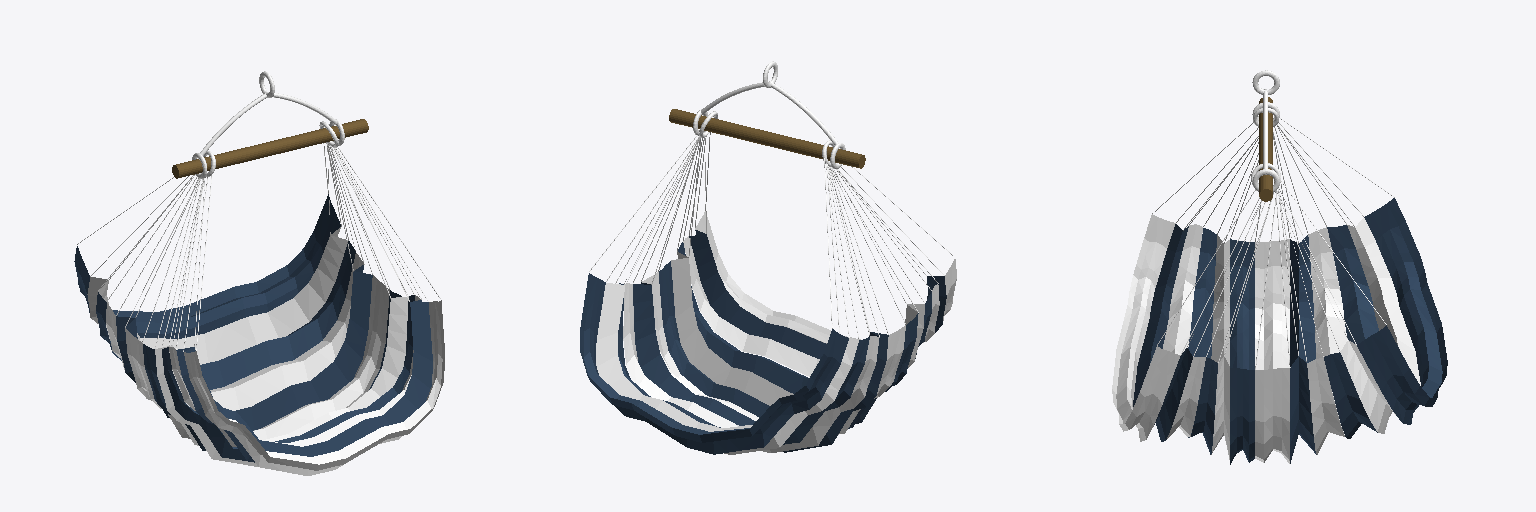
The model's file is REDE.obj.
3 views of the same model, side by side, from view 1: azimuth 30°, elevation 25°; view 2: azimuth 150°, elevation 25°; view 3: azimuth 270°, elevation 25° (orthographic).
Visible parts, largest first — view 1: Mesh26 Group10 Group3 Model, Mesh28 Group12 Group3 Model, Mesh27 Group11 Group3 Model, Mesh25 Group9 Group3 Model, Mesh2 Group2 Model, Mesh15 Group6 Group3 Model, Mesh17 Group7 Group3 Model, Mesh5 Group4 Group3 Model; view 2: Mesh26 Group10 Group3 Model, Mesh28 Group12 Group3 Model, Mesh25 Group9 Group3 Model, Mesh27 Group11 Group3 Model, Mesh2 Group2 Model, Mesh17 Group7 Group3 Model, Mesh15 Group6 Group3 Model; view 3: Mesh26 Group10 Group3 Model, Mesh28 Group12 Group3 Model, Mesh27 Group11 Group3 Model, Mesh25 Group9 Group3 Model, Mesh17 Group7 Group3 Model, Mesh2 Group2 Model.
Boxes of the visible parts, box(x1,y1,x2,y2) form: Mesh26 Group10 Group3 Model: box(74, 194, 355, 389); Mesh28 Group12 Group3 Model: box(106, 253, 389, 445); Mesh27 Group11 Group3 Model: box(169, 295, 444, 475); Mesh25 Group9 Group3 Model: box(143, 290, 414, 466); Mesh2 Group2 Model: box(172, 119, 368, 178); Mesh15 Group6 Group3 Model: box(200, 93, 336, 155); Mesh17 Group7 Group3 Model: box(326, 142, 408, 298); Mesh5 Group4 Group3 Model: box(161, 178, 204, 349); Mesh26 Group10 Group3 Model: box(580, 273, 869, 454); Mesh28 Group12 Group3 Model: box(623, 272, 905, 452); Mesh25 Group9 Group3 Model: box(659, 242, 931, 428); Mesh27 Group11 Group3 Model: box(683, 211, 956, 376); Mesh2 Group2 Model: box(669, 109, 865, 168); Mesh17 Group7 Group3 Model: box(615, 137, 700, 284); Mesh15 Group6 Group3 Model: box(701, 81, 837, 144); Mesh26 Group10 Group3 Model: box(1324, 198, 1447, 438); Mesh28 Group12 Group3 Model: box(1255, 227, 1346, 463); Mesh27 Group11 Group3 Model: box(1112, 214, 1205, 441); Mesh25 Group9 Group3 Model: box(1188, 228, 1254, 464); Mesh17 Group7 Group3 Model: box(1218, 188, 1347, 369); Mesh2 Group2 Model: box(1259, 97, 1272, 201).
Bounding box in the file's own units: 654 × 930 × 754.